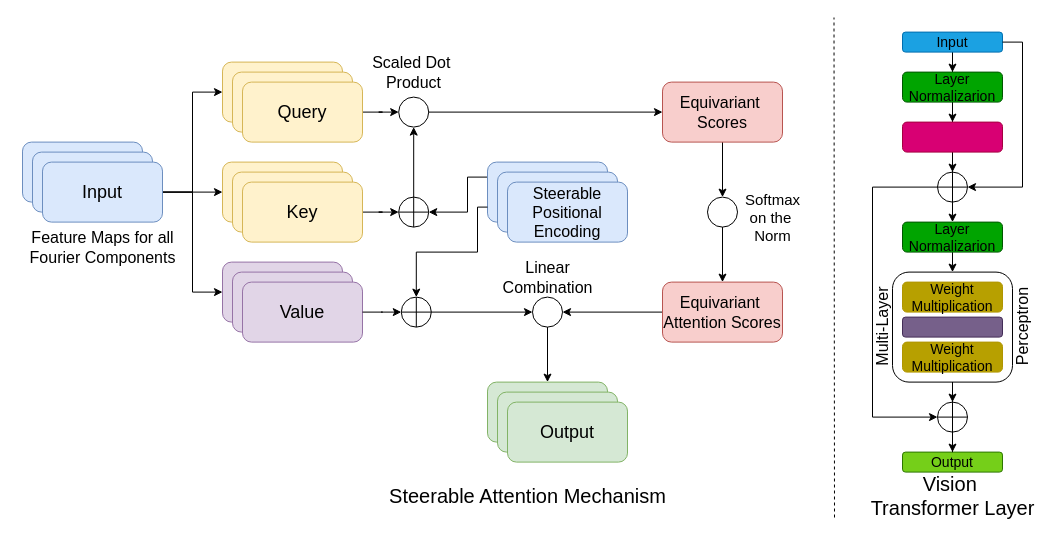
The diagram is 1064 pixels wide and 543 high, and some of its shapes have lost their labels. Each missing label, with the centre of its shape:
"Non-linearity" belongs at (x=952, y=326).
"Steerable Attention" belongs at (x=952, y=136).
